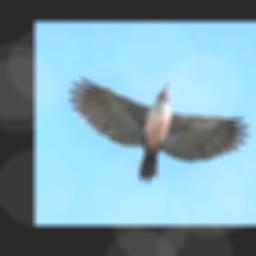Woodpecker: (69, 77, 250, 183)
